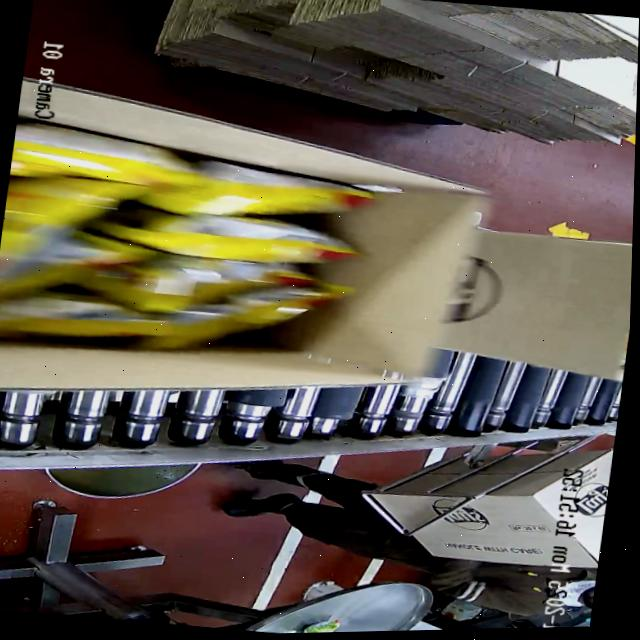SALTED: (0, 131, 388, 381)
